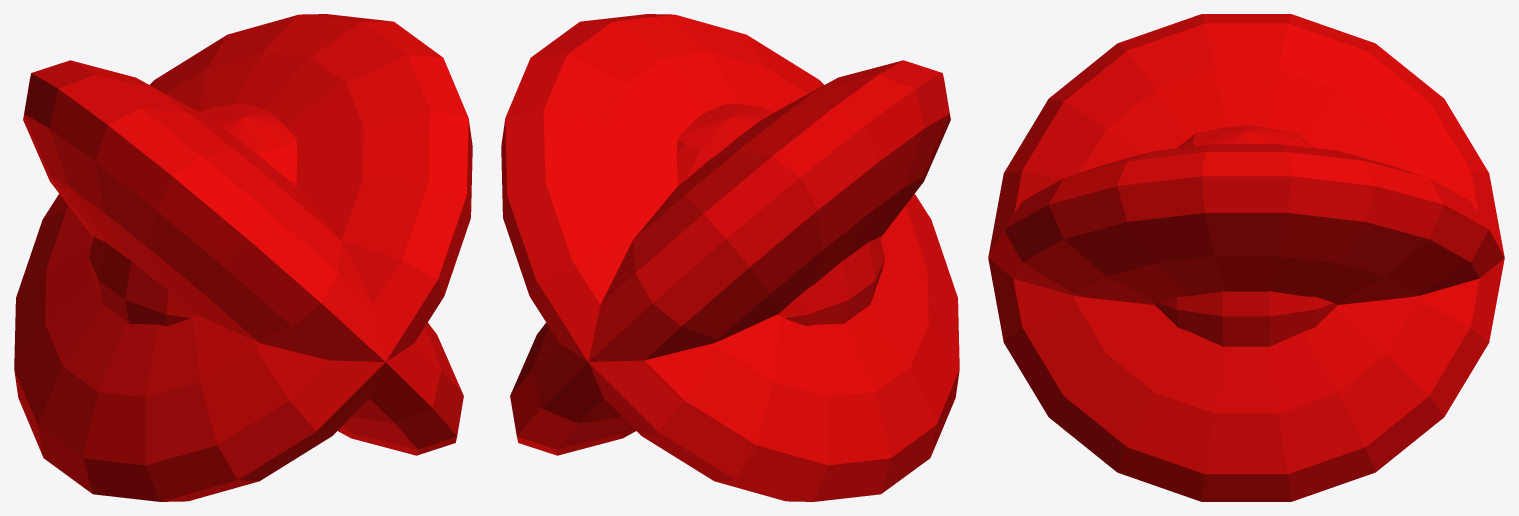
File: No3Mezurasi.fbx
3 views of the same model, side by side, from view 1: azimuth 30°, elevation 25°; view 2: azimuth 150°, elevation 25°; view 3: azimuth 270°, elevation 25° (orthographic). The views are drawn at different scales.
Visible parts, largest first — view 1: No3Mezurasi; view 2: No3Mezurasi; view 3: No3Mezurasi.
Part boxes in pixels (x1,y1,x2,y2): No3Mezurasi: (14,14,472,501); No3Mezurasi: (501,14,959,501); No3Mezurasi: (988,14,1504,501).
Bounding box in the file's own units: 149 × 153 × 200.
